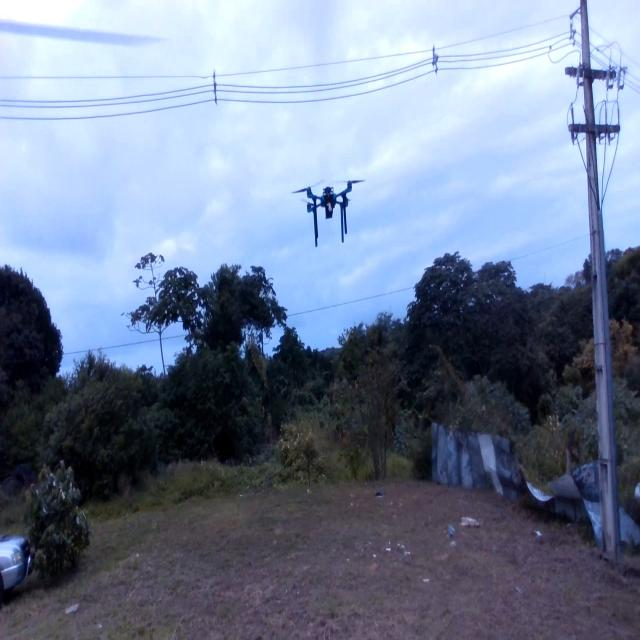-uav-: (286, 166, 370, 256)
